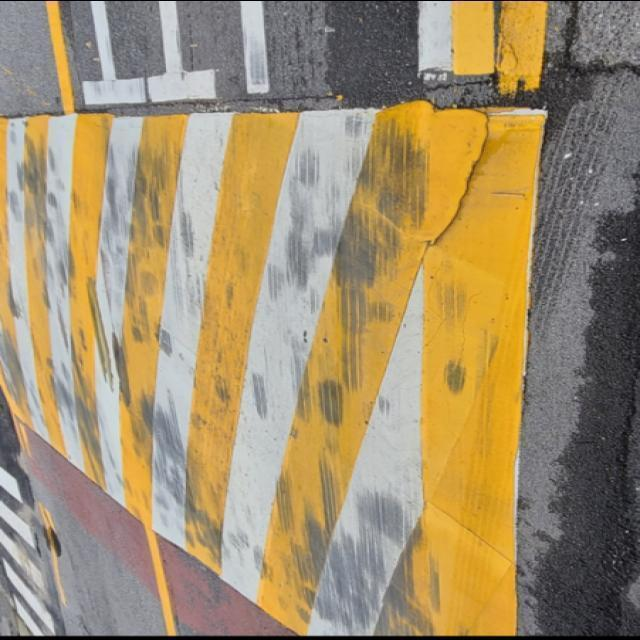speedbreaker: (0, 71, 564, 640)
